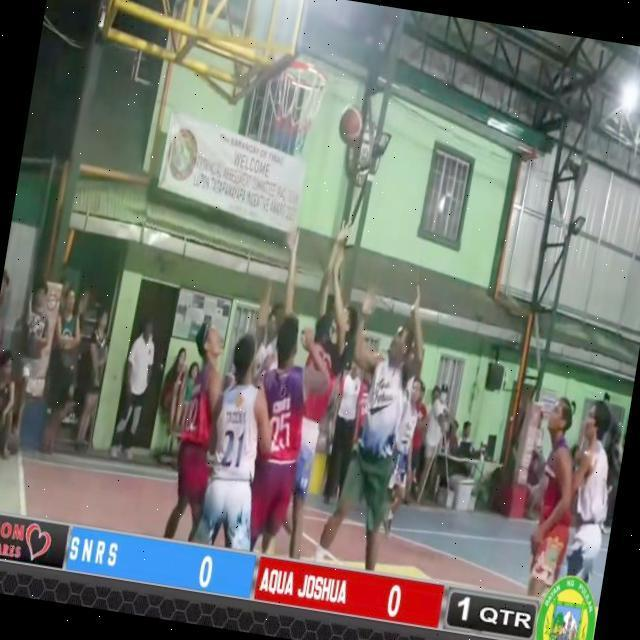ball: (334, 101, 372, 152)
hoop: (272, 57, 340, 91)
